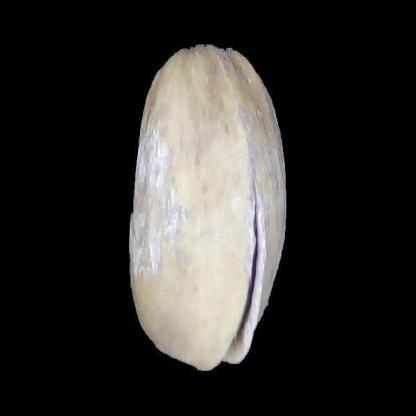pistachio: (130, 43, 285, 371)
